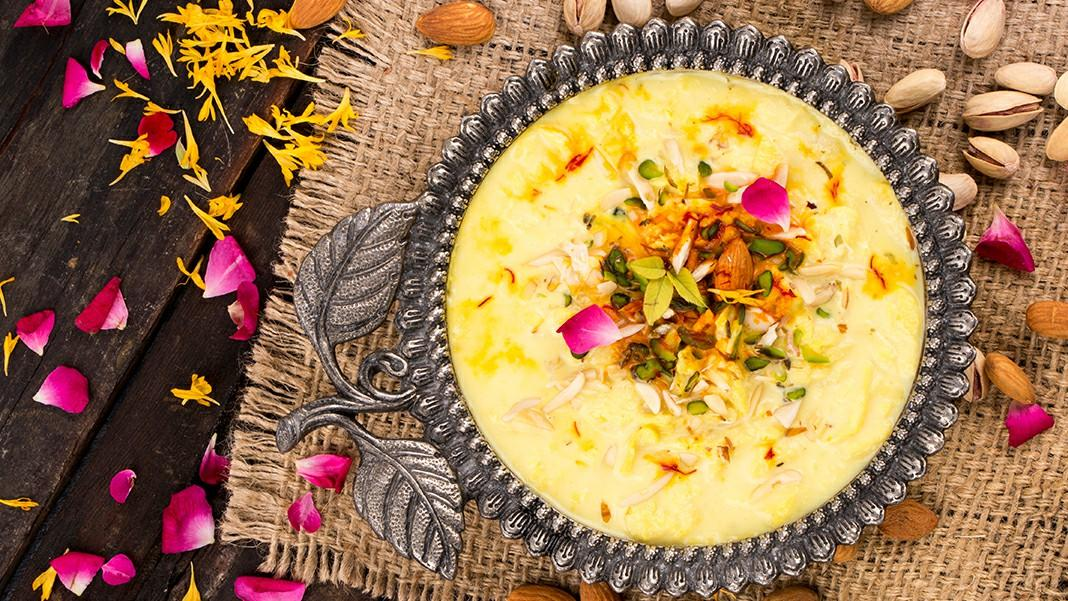Kheer: (450, 70, 922, 546)
